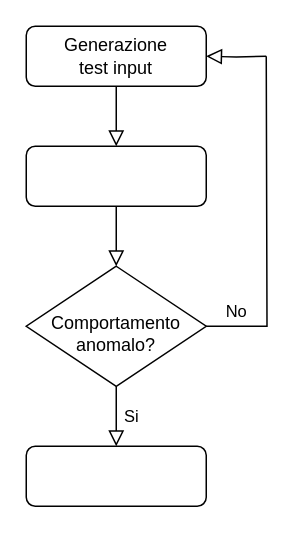
The diagram is 308 pixels wide and 533 high, and some of its shapes have lost their labels. Each missing label, with the centre of its shape:
"Bug segnalato" goes at point 115,475.
"Esecuzione programma" goes at point 115,175.
